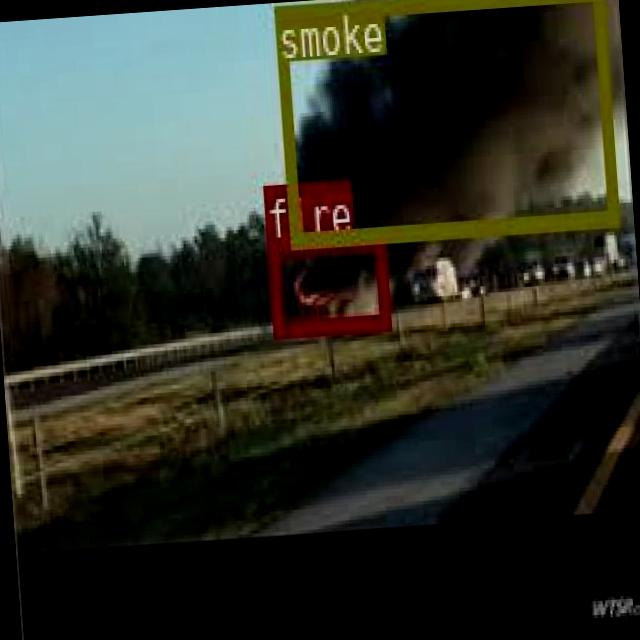fire: (266, 233, 387, 333)
smoke: (272, 0, 617, 244)
